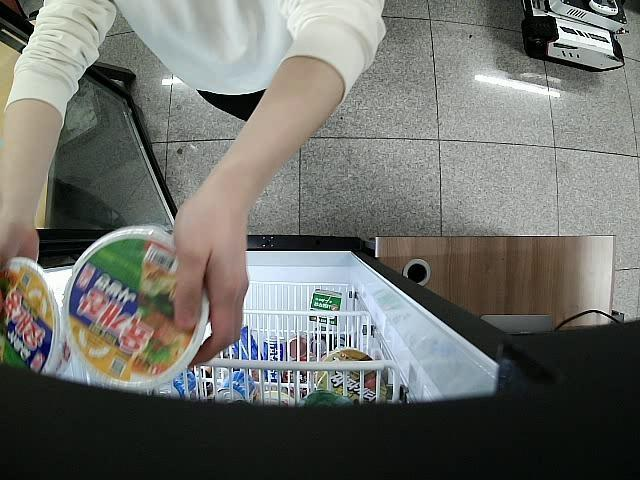09_yukGaeJang: (60, 227, 206, 390), (2, 257, 58, 376)
